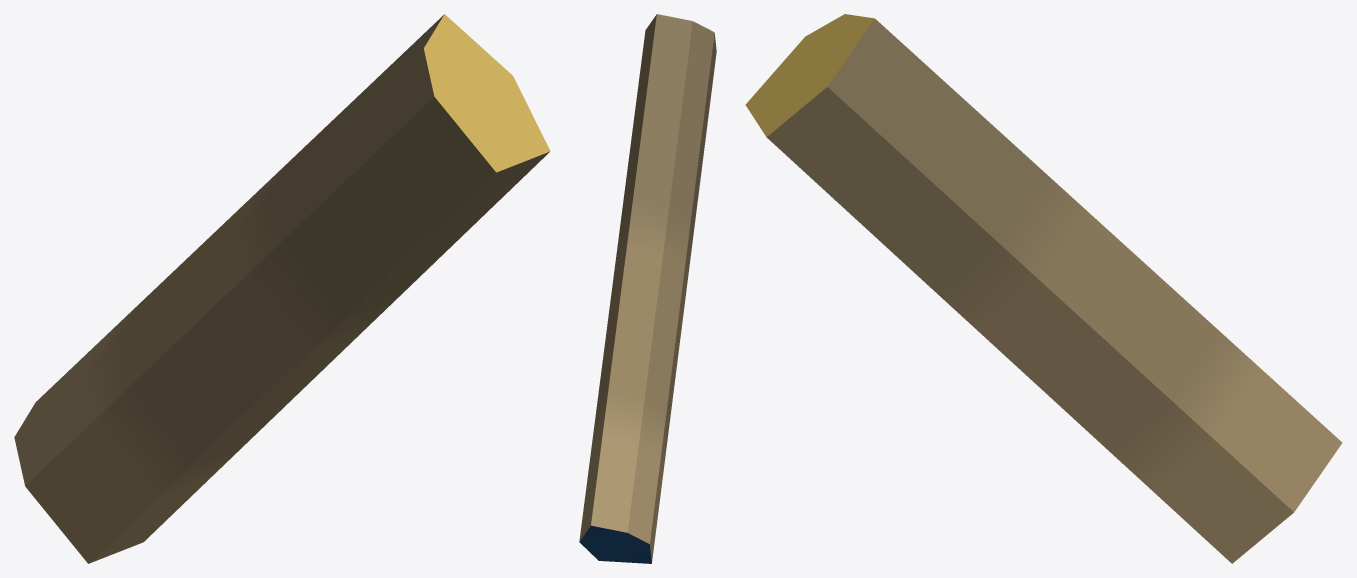
The model's file is 0674_San_Marino.glb.
3 views of the same model, side by side, from view 1: azimuth 30°, elevation 25°; view 2: azimuth 150°, elevation 25°; view 3: azimuth 270°, elevation 25° (orthographic). The views are drawn at different scales.
Visible parts, largest first — view 1: part_0; view 2: part_0; view 3: part_0.
Part boxes in pixels (x1,y1,x2,y2): part_0: (14, 14, 550, 563); part_0: (579, 14, 716, 563); part_0: (745, 14, 1342, 563).
Bounding box in the file's own units: 0.0728 × 0.1777 × 0.162.
Materials: 1 (1 with a texture image).
